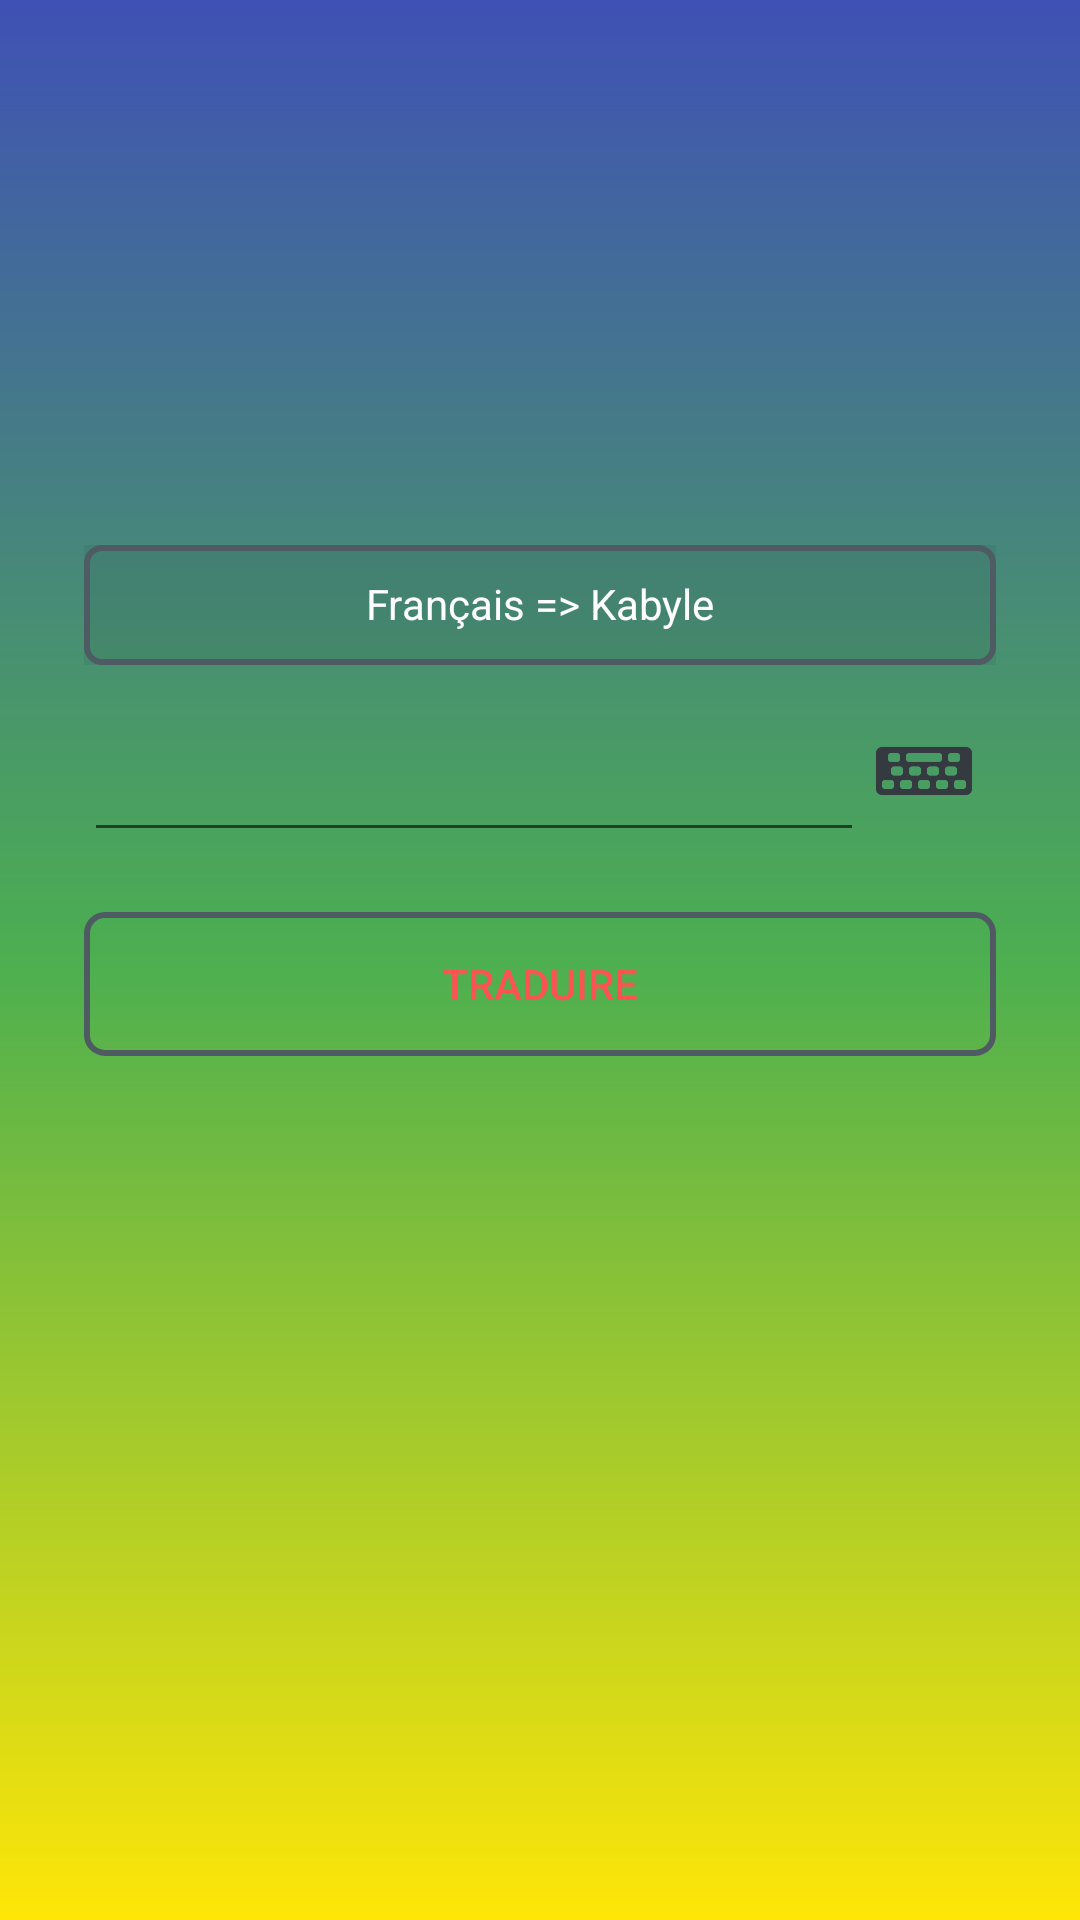

Where icons sit on this 1080×1920 app screen, as [x1=x1, y1=y1, x2=x2, y2=y2]:
keyboard: [x1=876, y1=747, x2=972, y2=795]
